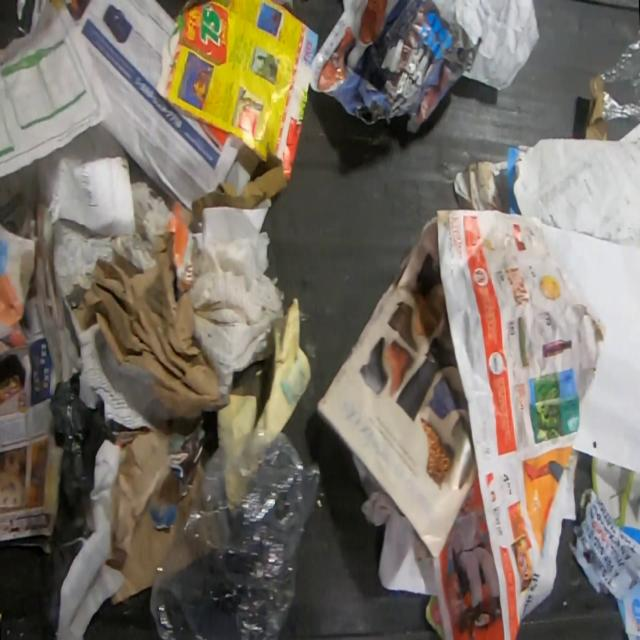cardboard: (103, 420, 201, 606), (192, 161, 290, 223)
soft_plastic: (148, 425, 322, 640), (36, 369, 116, 636), (187, 229, 288, 413), (599, 33, 640, 142), (130, 179, 176, 240)
